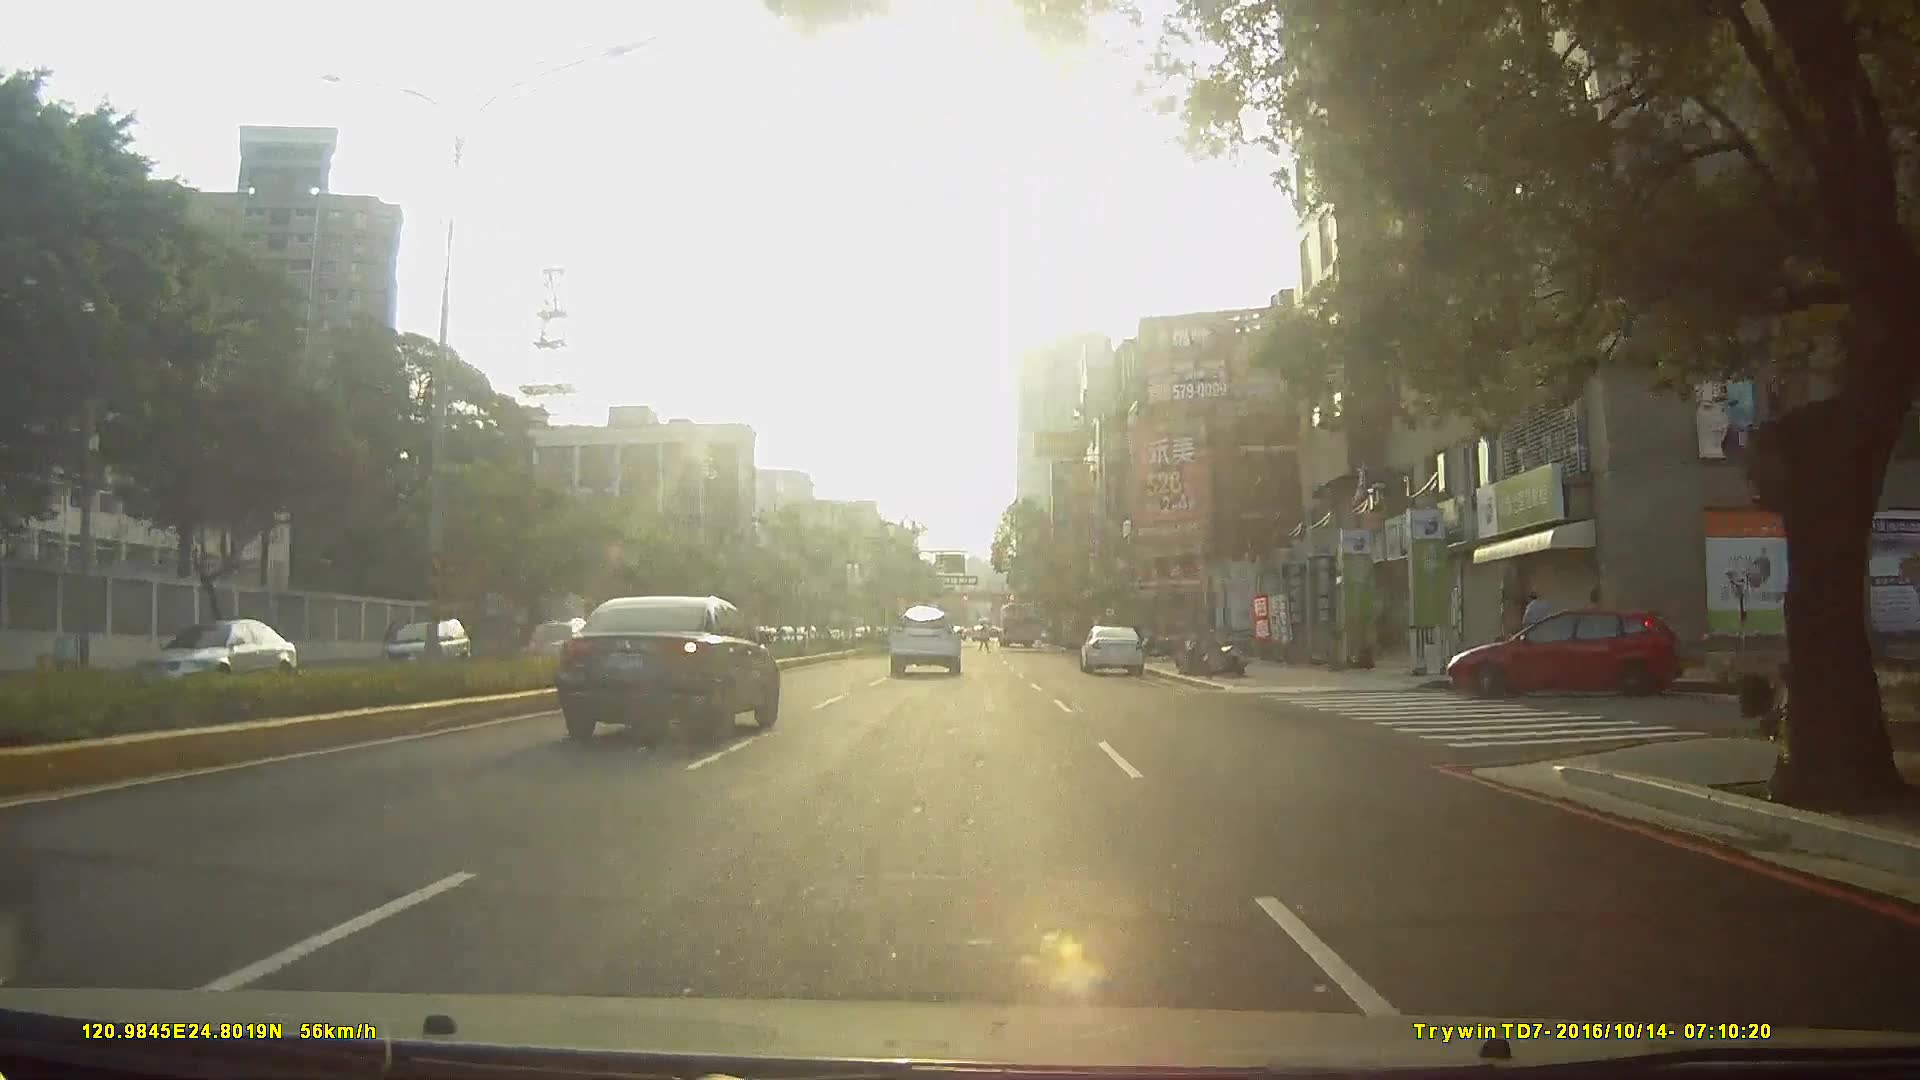pedestrian: (1527, 591, 1555, 663)
vehicle: (562, 594, 783, 741), (1439, 606, 1695, 710), (126, 616, 298, 699), (375, 610, 480, 672), (886, 607, 962, 678), (507, 619, 588, 675), (1077, 624, 1147, 676), (995, 602, 1039, 650)
